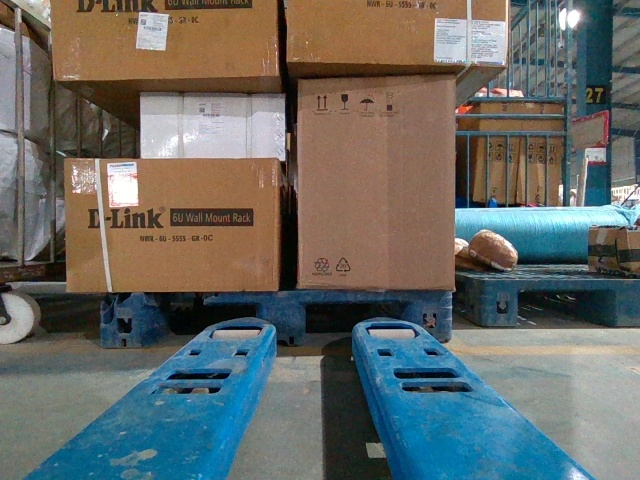block: (98, 291, 156, 346), (258, 292, 311, 346), (403, 290, 453, 342), (482, 279, 518, 326), (606, 280, 639, 328)
front: (100, 290, 452, 345)
hole pallet: (148, 301, 256, 344), (302, 301, 407, 344), (516, 288, 611, 328)
